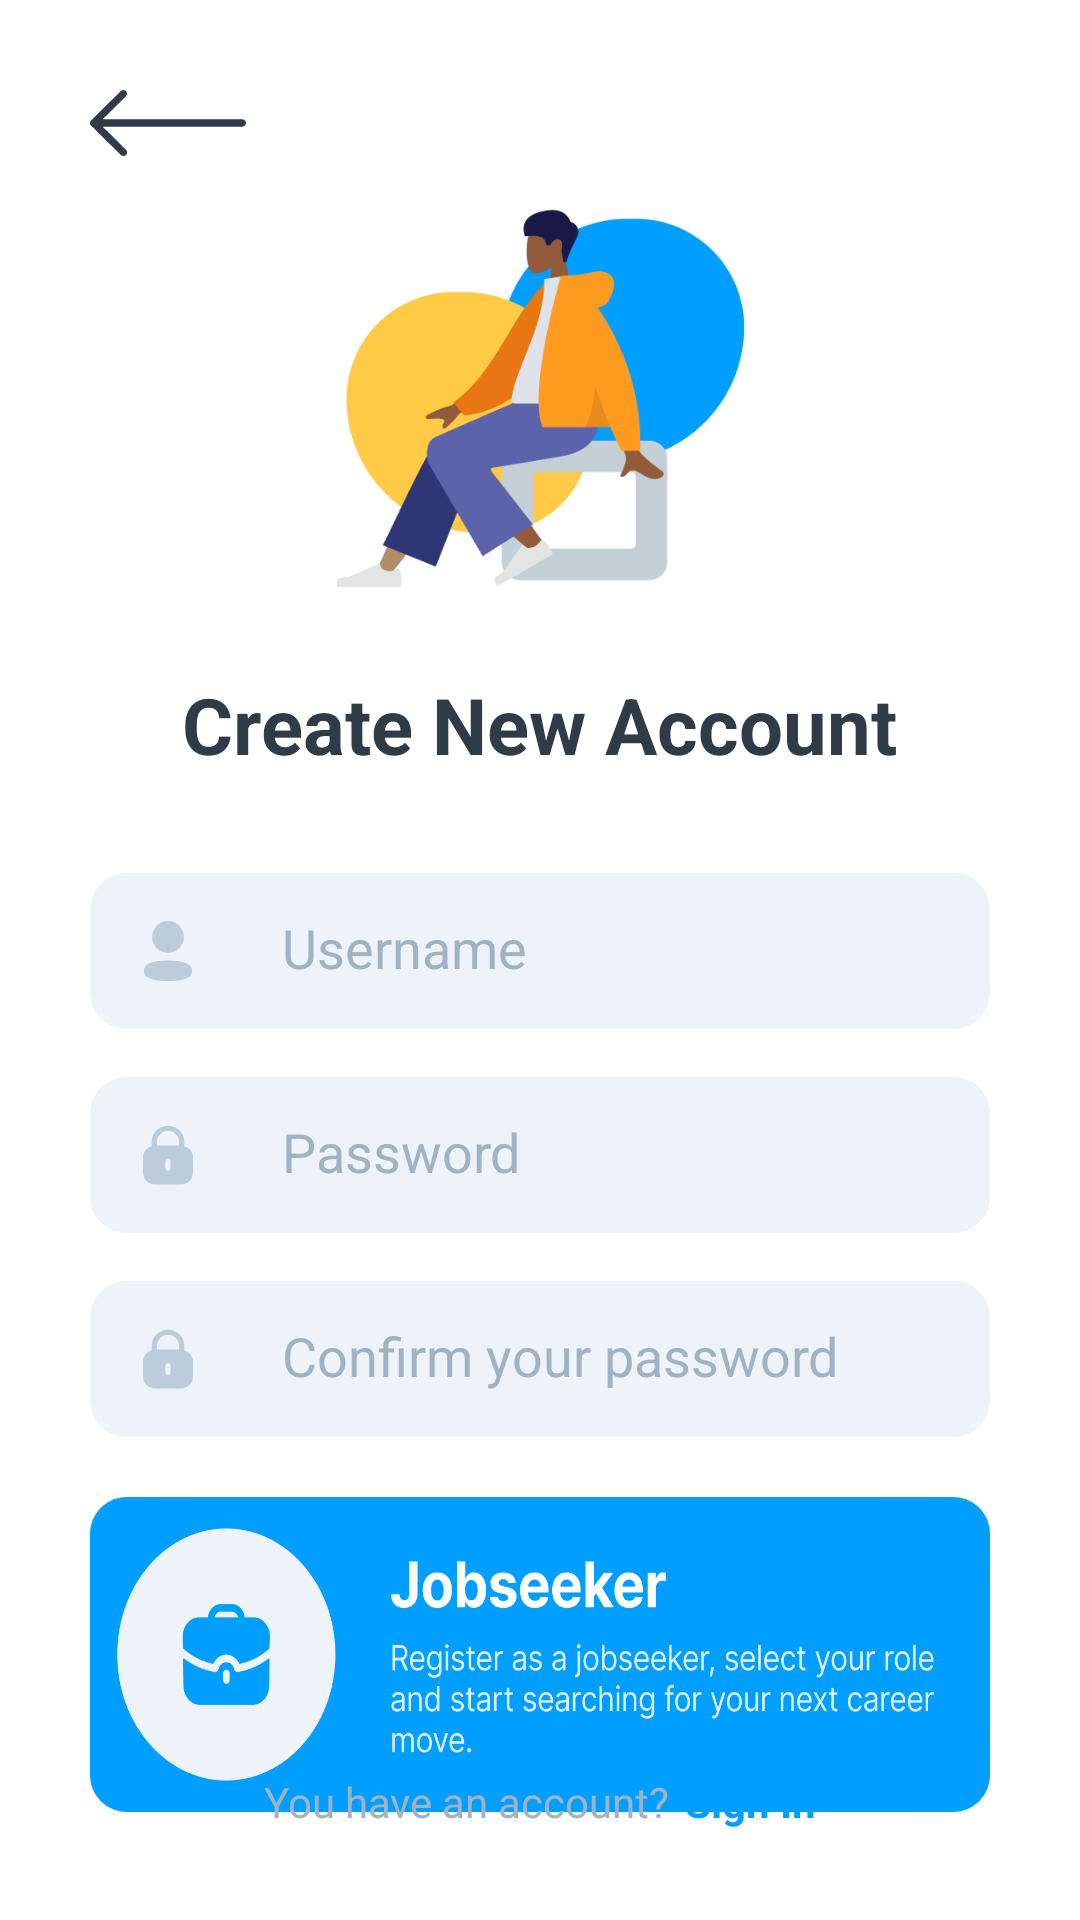

Point at icon controls on the screen. Image size 1080px x 1920px, points as [x,y].
backward: [168,123]
